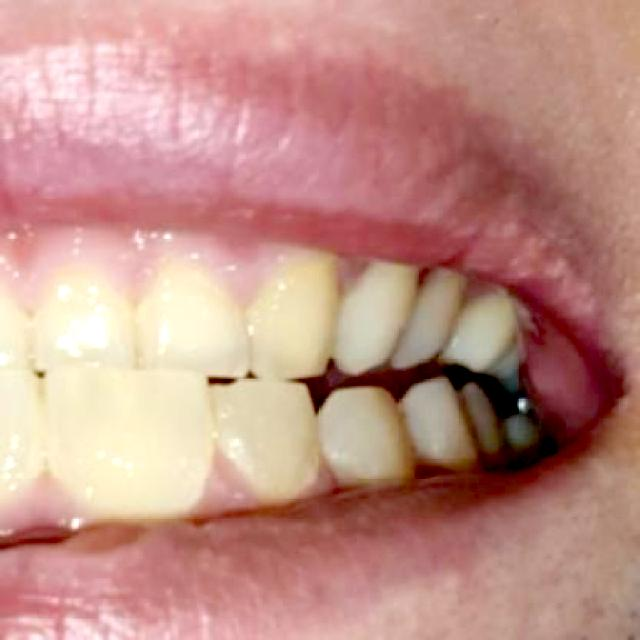Plaque: (198, 458, 254, 511)
